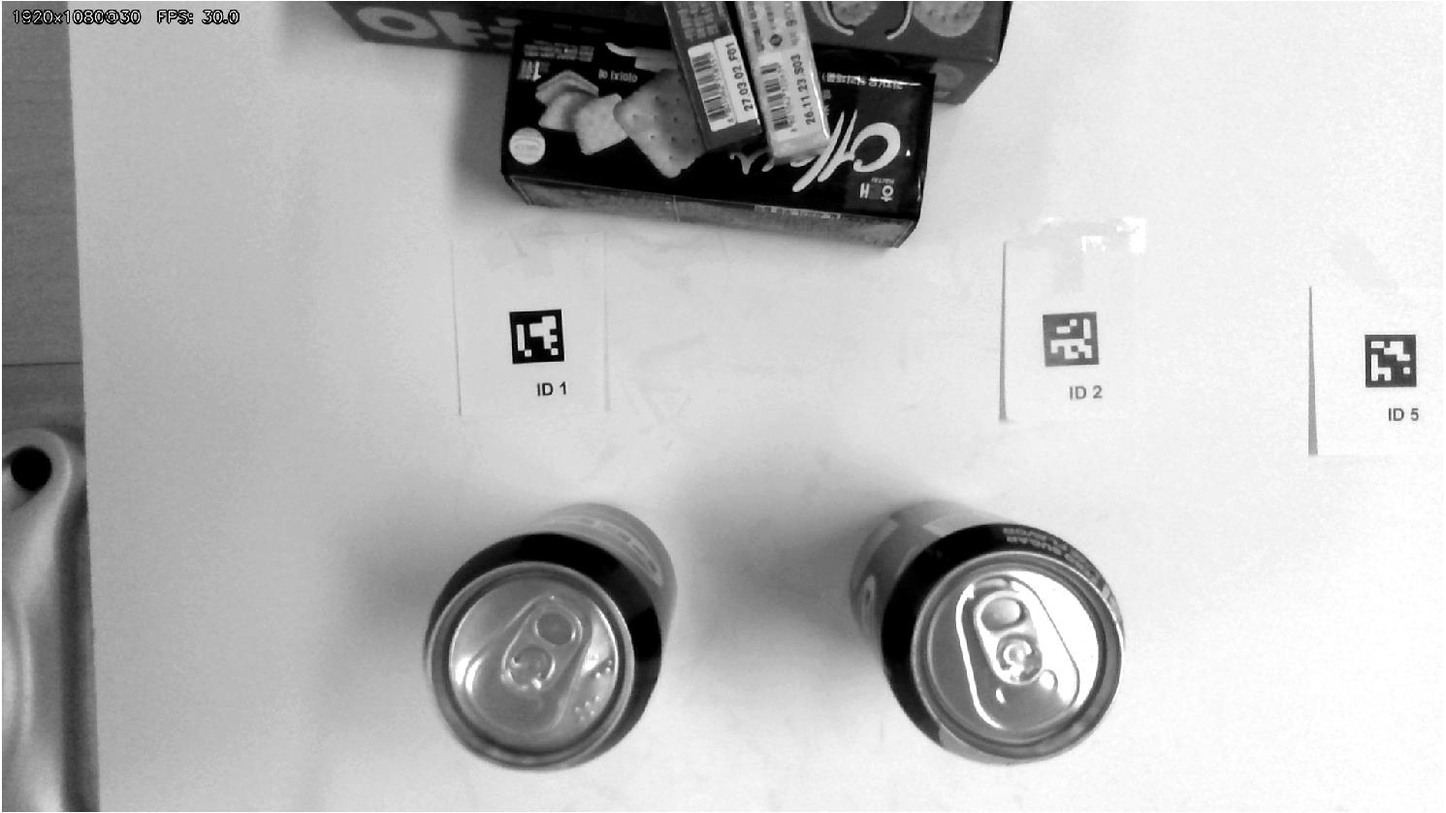can_pepsi: (426, 504, 675, 769)
can_pepsi_zero: (852, 502, 1123, 764)
